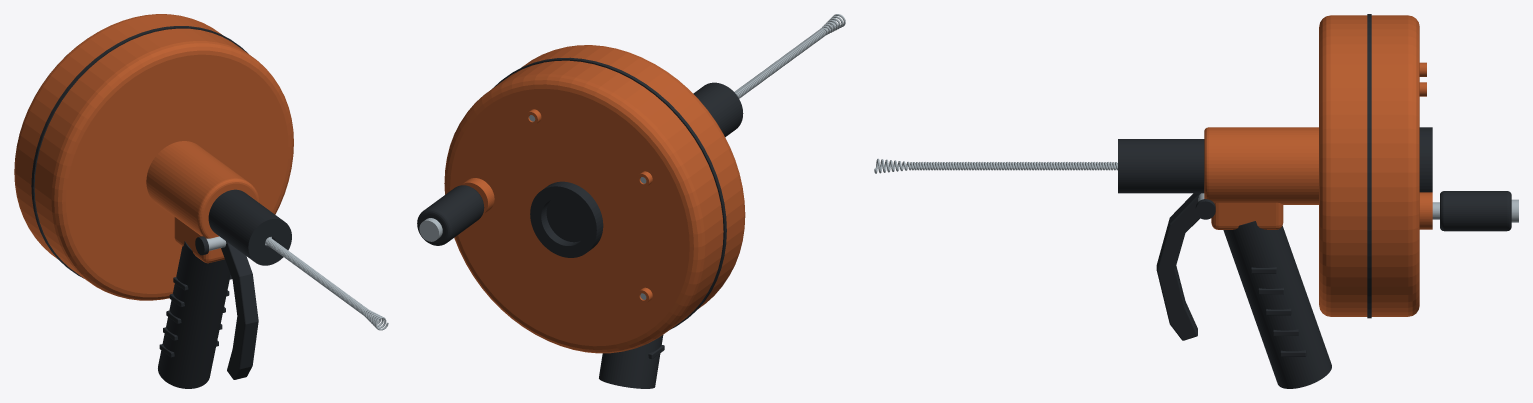
File: full.fbx
The picture shows the model from 3 angles, left to right: view 1: azimuth 30°, elevation 25°; view 2: azimuth 150°, elevation 25°; view 3: azimuth 270°, elevation 25°; orthographic projection. The views are drawn at different scales.
Visible parts, largest first — view 1: Closed shallow cable drum, Angled pistol handgrip, Front axial neck, Hollow cable feed nose, Separate curved trigger, Drum perimeter seam, Continuous spring cable and open coil tip, Handle supporting saddle; view 2: Closed shallow cable drum, Rear central recess rim, Short rear winding grip, Angled pistol handgrip, Drum perimeter seam, Hollow cable feed nose, Rear recessed backing, Continuous spring cable and open coil tip, Offset crank mounting boss, Crank outer retainer; view 3: Closed shallow cable drum, Angled pistol handgrip, Front axial neck, Hollow cable feed nose, Separate curved trigger, Short rear winding grip, Continuous spring cable and open coil tip, Handle supporting saddle, Drum perimeter seam, Rear central recess rim.
Boxes of the visible parts, x1,y1,x2,y2 form: Closed shallow cable drum: (14, 14, 293, 300); Angled pistol handgrip: (158, 241, 230, 388); Front axial neck: (146, 141, 259, 238); Hollow cable feed nose: (208, 189, 291, 265); Separate curved trigger: (221, 241, 258, 379); Drum perimeter seam: (31, 26, 248, 278); Continuous spring cable and open coil tip: (265, 237, 388, 330); Handle supporting saddle: (174, 217, 224, 263); Closed shallow cable drum: (444, 45, 745, 353); Rear central recess rim: (530, 181, 603, 257); Short rear winding grip: (417, 185, 484, 245); Angled pistol handgrip: (599, 335, 663, 388); Drum perimeter seam: (492, 57, 726, 329); Hollow cable feed nose: (693, 82, 743, 137); Rear recessed backing: (546, 198, 585, 242); Continuous spring cable and open coil tip: (734, 14, 845, 98); Offset crank mounting boss: (461, 178, 494, 214); Crank outer retainer: (419, 218, 442, 241); Closed shallow cable drum: (1319, 15, 1419, 316); Angled pistol handgrip: (1223, 221, 1331, 388); Front axial neck: (1204, 127, 1318, 204); Hollow cable feed nose: (1118, 139, 1204, 193); Separate curved trigger: (1156, 193, 1200, 340); Short rear winding grip: (1440, 191, 1511, 231); Continuous spring cable and open coil tip: (874, 158, 1117, 173); Handle supporting saddle: (1211, 202, 1283, 229); Drum perimeter seam: (1367, 14, 1371, 318); Rear central recess rim: (1419, 127, 1432, 192).
Bounding box in the file's own units: 21.2 × 27.21 × 44.87.
